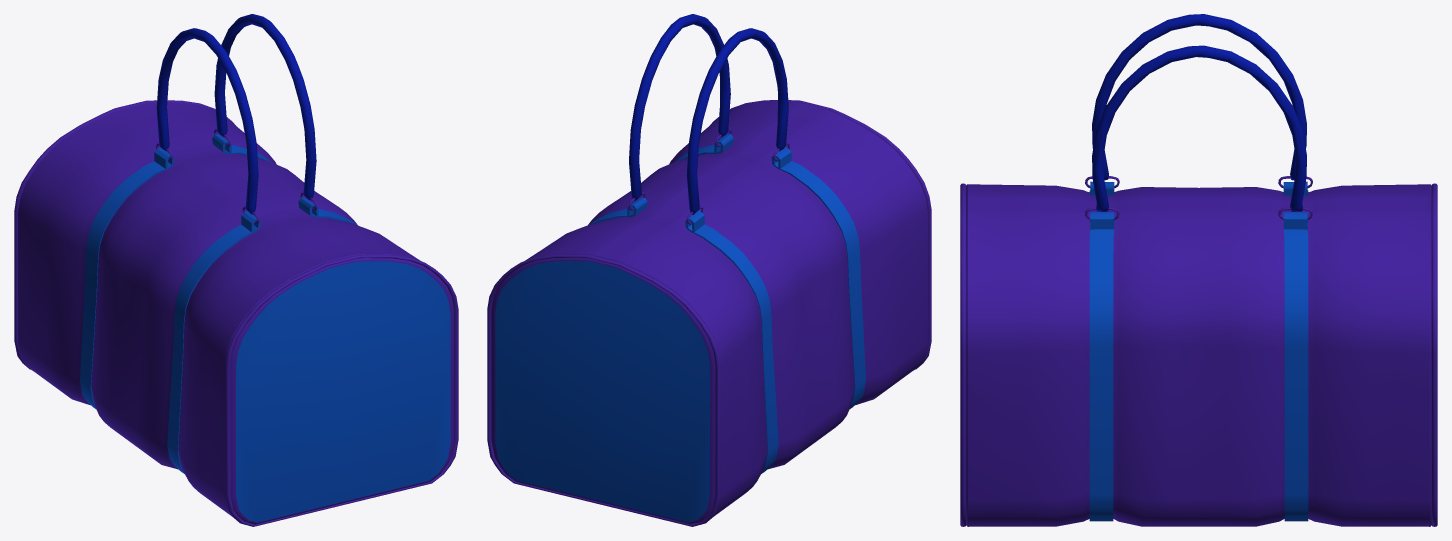
File: LockBag.fbx
3 views of the same model, side by side, from view 1: azimuth 30°, elevation 25°; view 2: azimuth 150°, elevation 25°; view 3: azimuth 270°, elevation 25° (orthographic). The views are drawn at different scales.
Visible parts, largest first — view 1: LockBag; view 2: LockBag; view 3: LockBag.
Part boxes in pixels (bbox=[...]): LockBag: bbox=[14, 14, 458, 526]; LockBag: bbox=[487, 14, 931, 526]; LockBag: bbox=[960, 14, 1437, 526].
Size of the model in its own units: 0.2399 by 0.3955 by 0.3815.
1 material, 1 textured.
